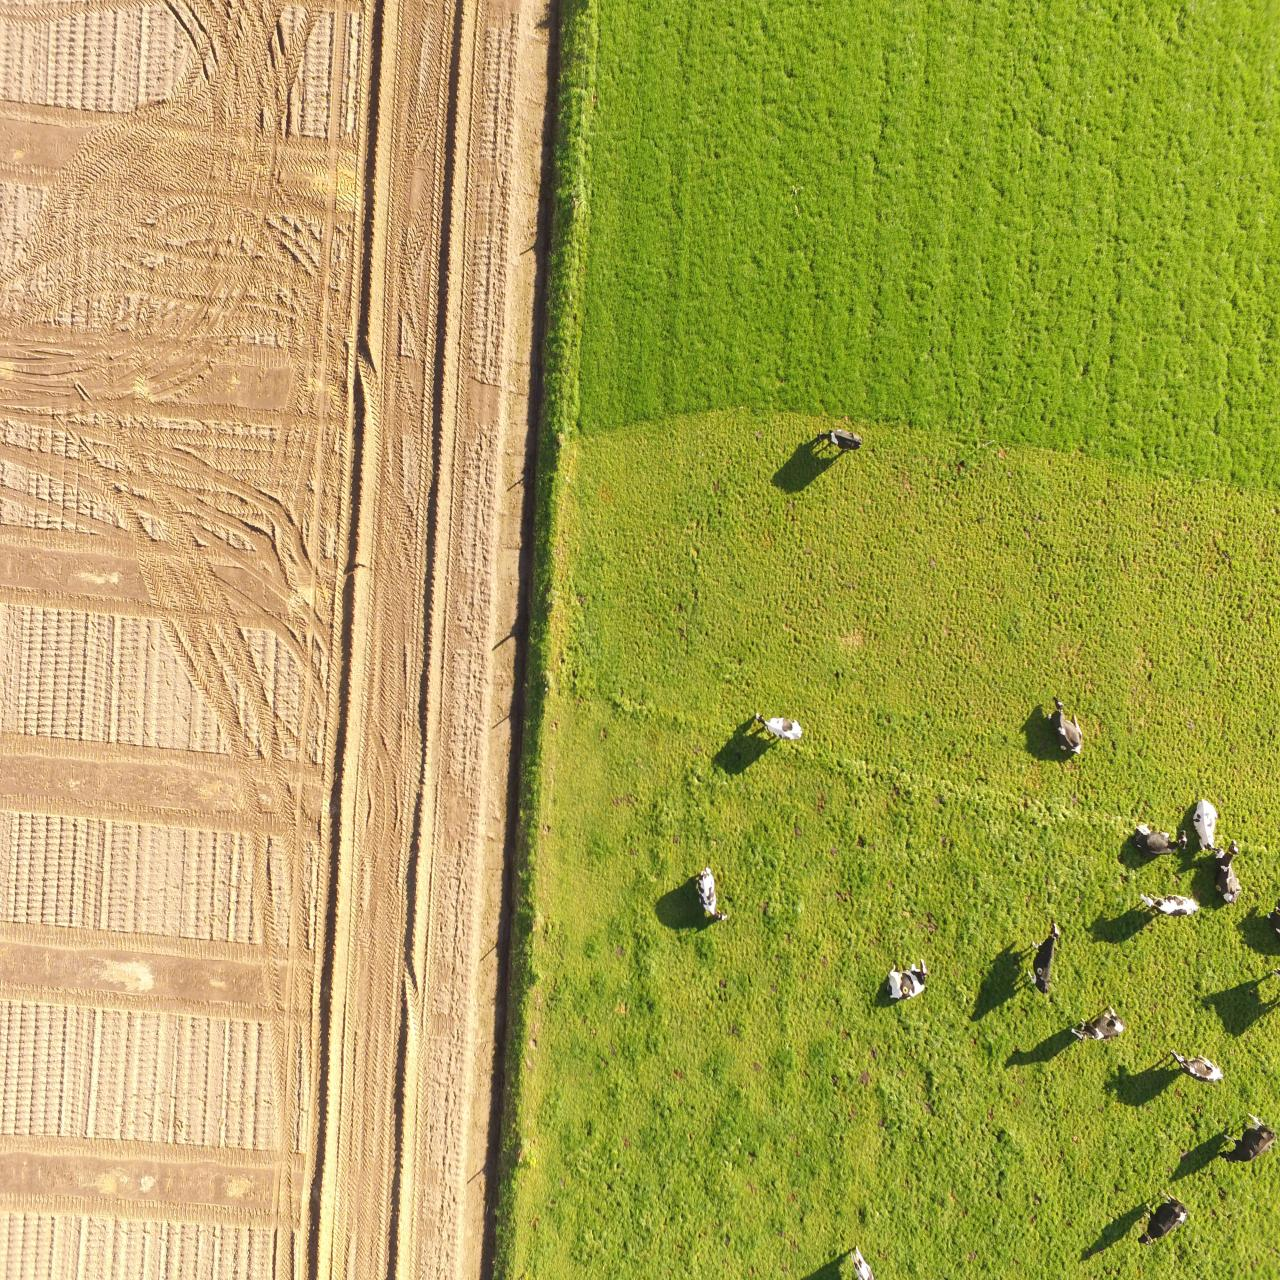cow: (1218, 1110, 1278, 1167), (1136, 1191, 1186, 1247), (1044, 694, 1085, 761), (1024, 924, 1061, 998), (1129, 817, 1191, 859), (694, 865, 731, 925), (1133, 888, 1199, 921), (1190, 795, 1224, 857), (1068, 1008, 1125, 1044), (881, 956, 925, 1003), (753, 707, 803, 745), (1213, 837, 1241, 905), (1170, 1048, 1224, 1083), (813, 431, 865, 451)
